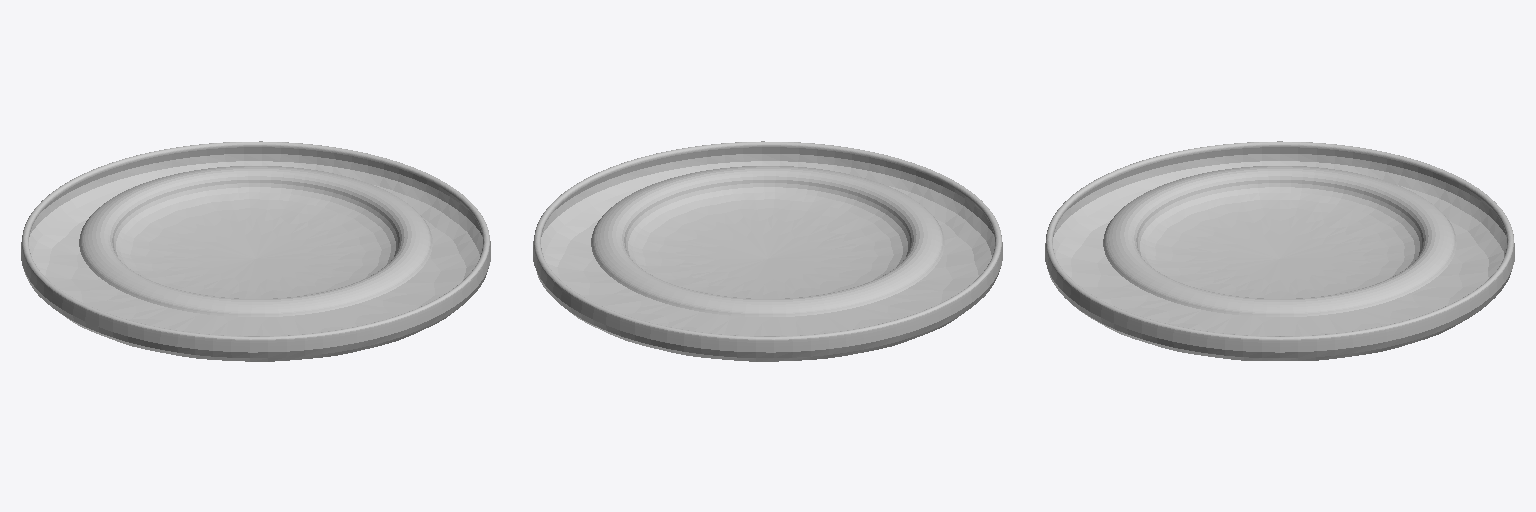
File: R-Body.obj
The picture shows the model from 3 angles: view 1: azimuth 30°, elevation 25°; view 2: azimuth 150°, elevation 25°; view 3: azimuth 270°, elevation 25°; orthographic projection.
Parts seen in each view (by area): view 1: polySurface2 pCylinder12 pCylinder1SmoothProxyGroup; view 2: polySurface2 pCylinder12 pCylinder1SmoothProxyGroup; view 3: polySurface2 pCylinder12 pCylinder1SmoothProxyGroup.
Boxes of the visible parts, <box> form: polySurface2 pCylinder12 pCylinder1SmoothProxyGroup: <box>21,141,490,361</box>; polySurface2 pCylinder12 pCylinder1SmoothProxyGroup: <box>533,141,1002,361</box>; polySurface2 pCylinder12 pCylinder1SmoothProxyGroup: <box>1045,141,1514,360</box>.
Size of the model in its own units: 4.89 by 0.4913 by 4.89.